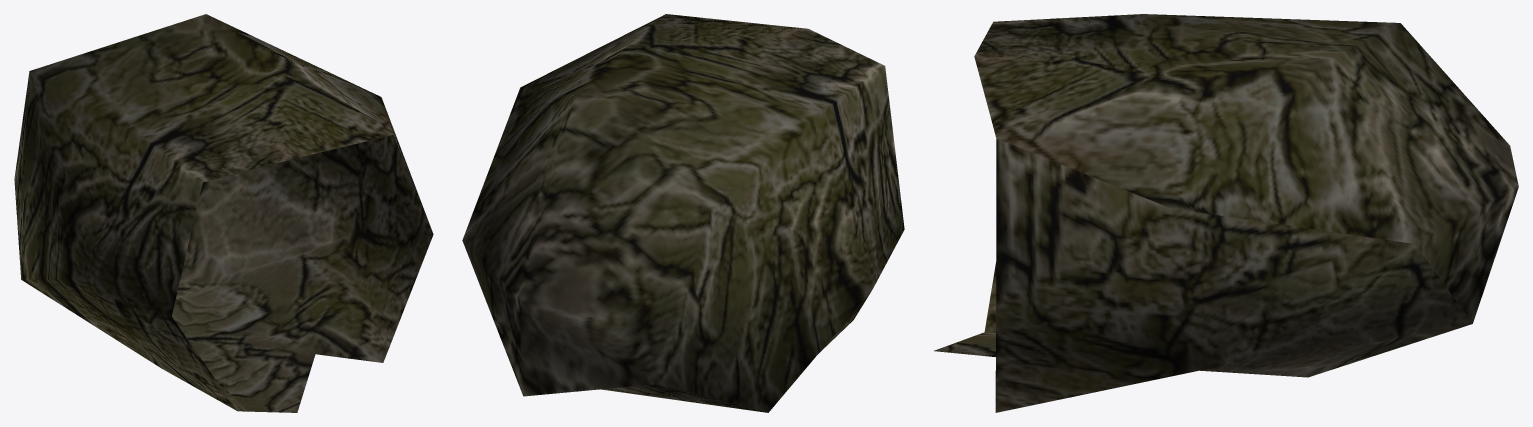
The model's file is MEP_Rock_03_a_LOD_01.fbx.
3 renders of one model, left to right at view 1: azimuth 30°, elevation 25°; view 2: azimuth 150°, elevation 25°; view 3: azimuth 270°, elevation 25°, orthographic. The views are drawn at different scales.
Parts seen in each view (by area): view 1: MEP_Rock_03_a_LOD_01; view 2: MEP_Rock_03_a_LOD_01; view 3: MEP_Rock_03_a_LOD_01.
Part boxes in pixels (x1,y1,x2,y2): MEP_Rock_03_a_LOD_01: [14, 14, 433, 412]; MEP_Rock_03_a_LOD_01: [462, 14, 904, 412]; MEP_Rock_03_a_LOD_01: [934, 14, 1518, 412].
Bounding box in the file's own units: 4.69 × 3.99 × 6.21.
